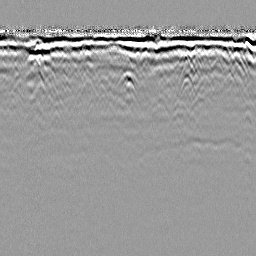cavity: (116, 70, 141, 87)
